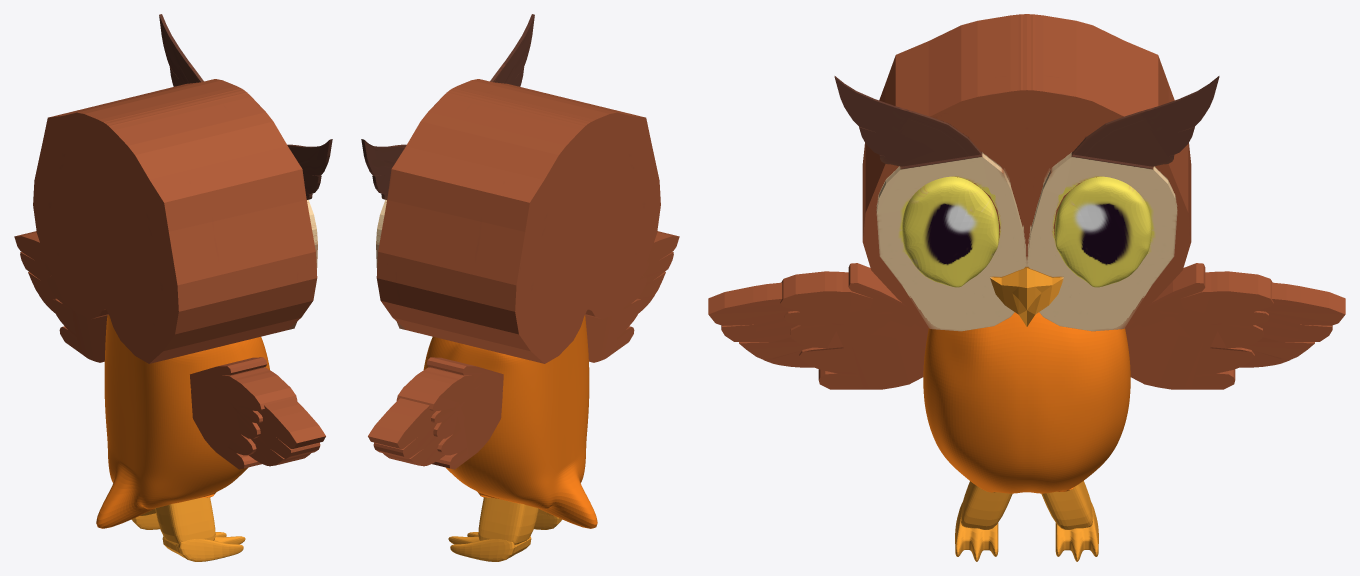
Rendered from Chouette perso toute couleur 1.fbx.
3 renders of one model, left to right at view 1: azimuth 30°, elevation 25°; view 2: azimuth 150°, elevation 25°; view 3: azimuth 270°, elevation 25°, orthographic. The views are drawn at different scales.
Parts seen in each view (by area): view 1: tete, Cube, Cube.002, pate, Cube.001; view 2: tete, Cube, Cube.002, pate, Cube.001; view 3: Cube.001, Cube.002, tete, Cube, yeux rond, pate.
Boxes of the visible parts, x1,y1,x2,y2 form: tete: (33, 79, 317, 363); Cube: (96, 315, 269, 528); Cube.002: (14, 231, 325, 469); pate: (131, 497, 245, 561); Cube.001: (159, 14, 332, 329); tete: (376, 79, 660, 363); Cube: (423, 315, 597, 528); Cube.002: (368, 231, 679, 469); pate: (448, 497, 562, 561); Cube.001: (361, 14, 534, 329); Cube.001: (834, 76, 1219, 331); Cube.002: (708, 263, 1345, 389); tete: (862, 14, 1191, 320); Cube: (923, 312, 1130, 493); yeux rond: (902, 176, 1151, 287); pate: (955, 481, 1098, 561).
Bounding box in the file's own units: 205 × 445 × 513.
